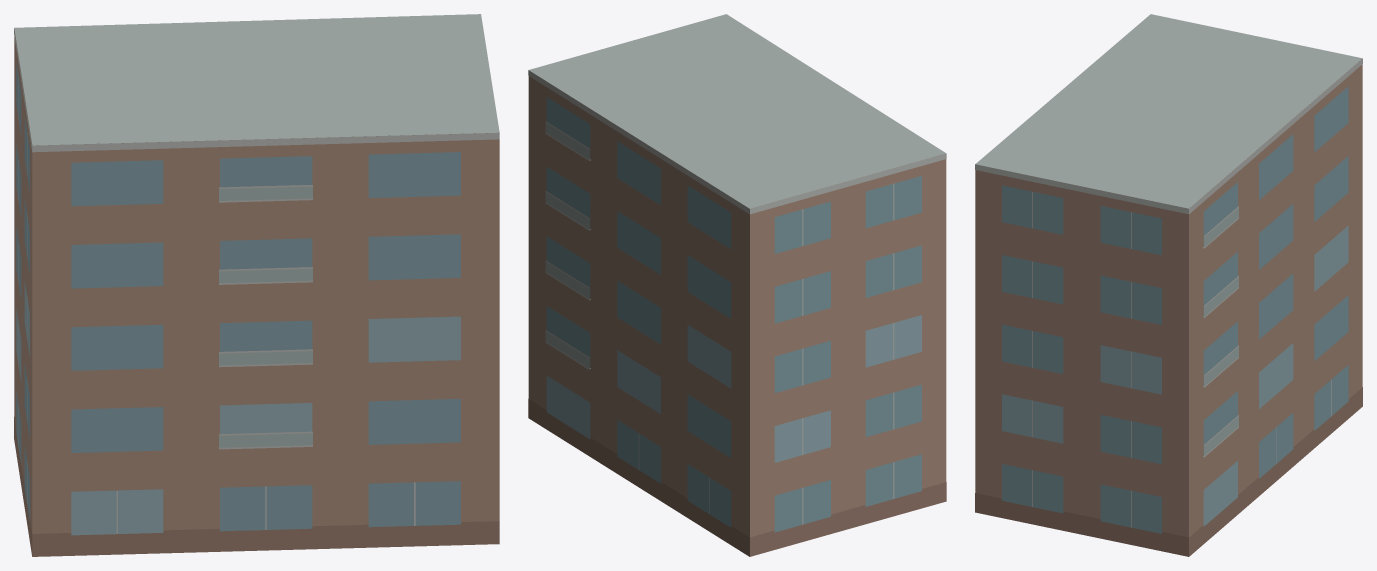
The model's file is survey-upis-32893339.glb.
The picture shows the model from 3 angles, left to right: view 1: azimuth 30°, elevation 25°; view 2: azimuth 150°, elevation 25°; view 3: azimuth 270°, elevation 25°; orthographic projection. The views are drawn at different scales.
Visible parts, largest first — view 1: survey-upis-32893339.tmp; view 2: survey-upis-32893339.tmp; view 3: survey-upis-32893339.tmp.
Part boxes in pixels (bbox=[...]): survey-upis-32893339.tmp: bbox=[14, 14, 499, 556]; survey-upis-32893339.tmp: bbox=[528, 14, 946, 556]; survey-upis-32893339.tmp: bbox=[975, 14, 1362, 556].
Size of the model in its own units: 18 by 15 by 15.14.
